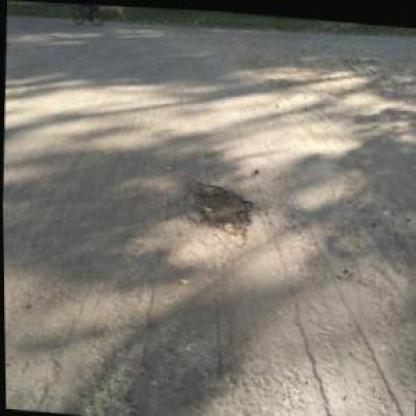pothole: (178, 175, 260, 241)
